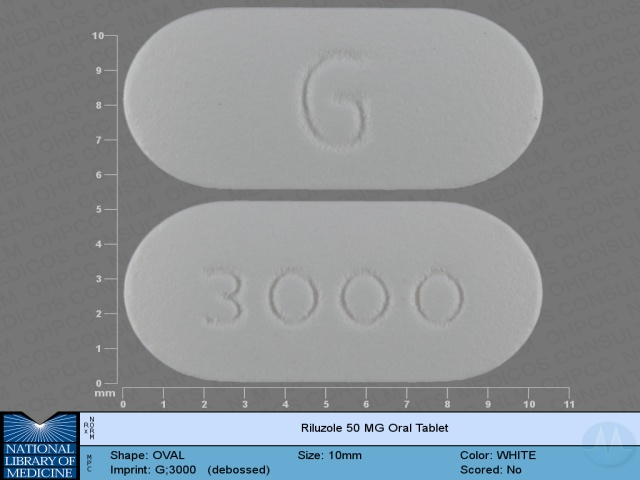0: (333, 266, 394, 328), (265, 263, 323, 328), (412, 265, 469, 328)
3: (198, 261, 245, 327)
G: (297, 43, 374, 149)
